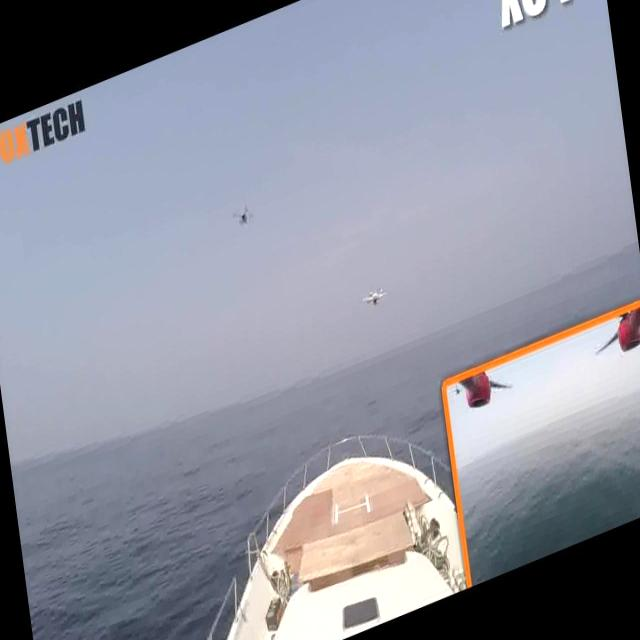drone: (227, 196, 260, 235), (360, 279, 388, 312)
